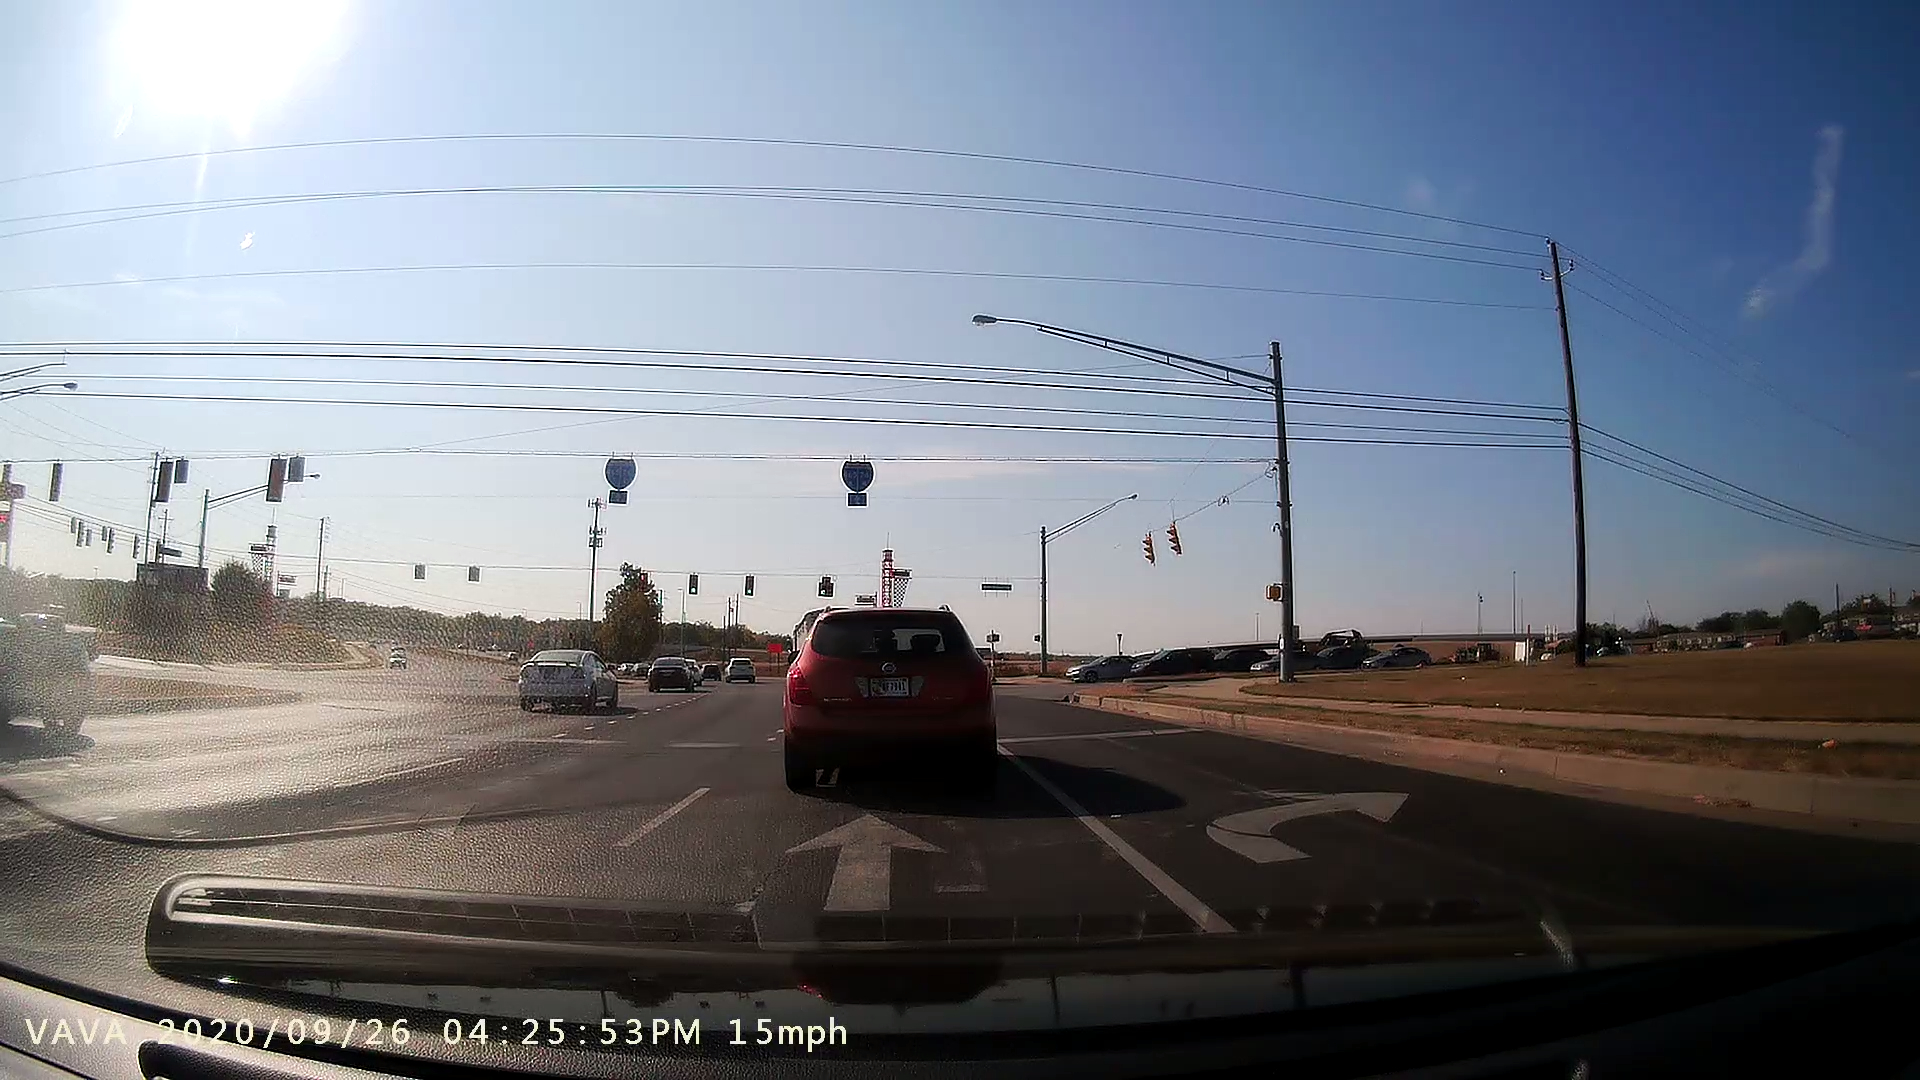right_turn: (1199, 773, 1416, 876)
straight: (773, 802, 957, 924)
